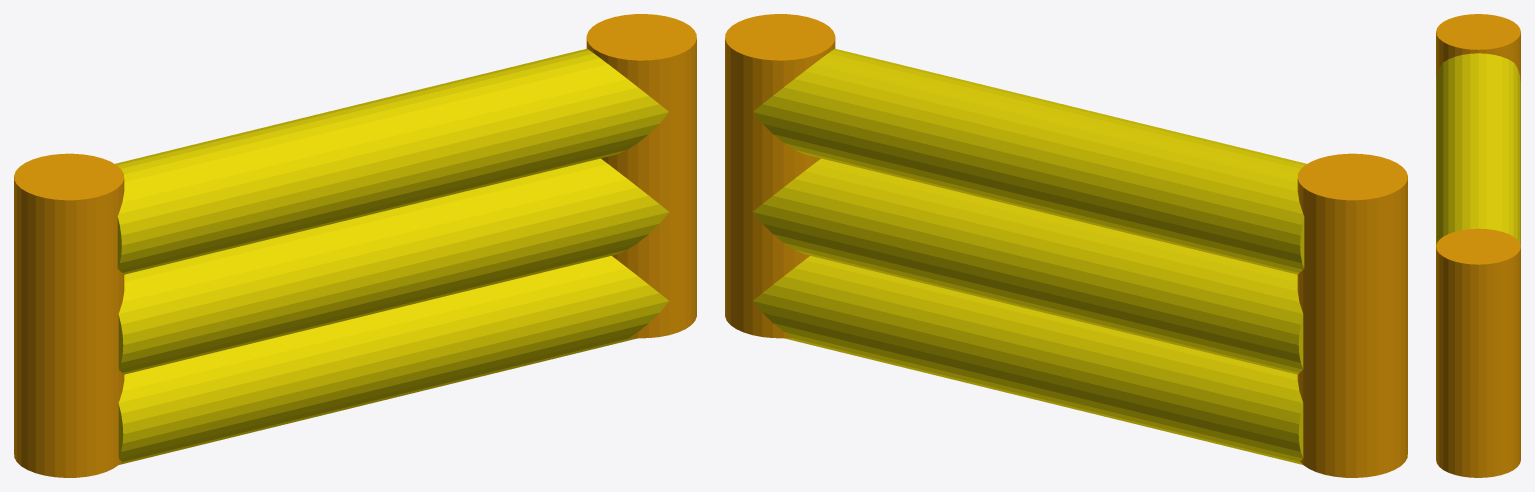
Rendered from wall.fbx.
The picture shows the model from 3 angles, left to right: view 1: azimuth 30°, elevation 25°; view 2: azimuth 150°, elevation 25°; view 3: azimuth 270°, elevation 25°; orthographic projection. The views are drawn at different scales.
Visible parts, largest first — view 1: Cylinder.002, Cylinder.001, Cylinder, Cylinder.004, Cylinder.003; view 2: Cylinder.002, Cylinder.001, Cylinder, Cylinder.004, Cylinder.003; view 3: Cylinder.003, Cylinder.002, Cylinder.004.
Boxes of the visible parts, <box> form: Cylinder.002: <box>115,48,668,274</box>; Cylinder.001: <box>118,158,669,374</box>; Cylinder: <box>118,256,669,464</box>; Cylinder.004: <box>14,153,124,477</box>; Cylinder.003: <box>586,14,696,338</box>; Cylinder.002: <box>753,48,1306,274</box>; Cylinder.001: <box>752,158,1303,374</box>; Cylinder: <box>752,256,1303,464</box>; Cylinder.004: <box>1297,153,1407,477</box>; Cylinder.003: <box>725,14,835,338</box>; Cylinder.003: <box>1436,228,1520,477</box>; Cylinder.002: <box>1436,53,1520,245</box>; Cylinder.004: <box>1436,14,1520,81</box>.
Size of the model in its own units: 978 by 411 by 140.
